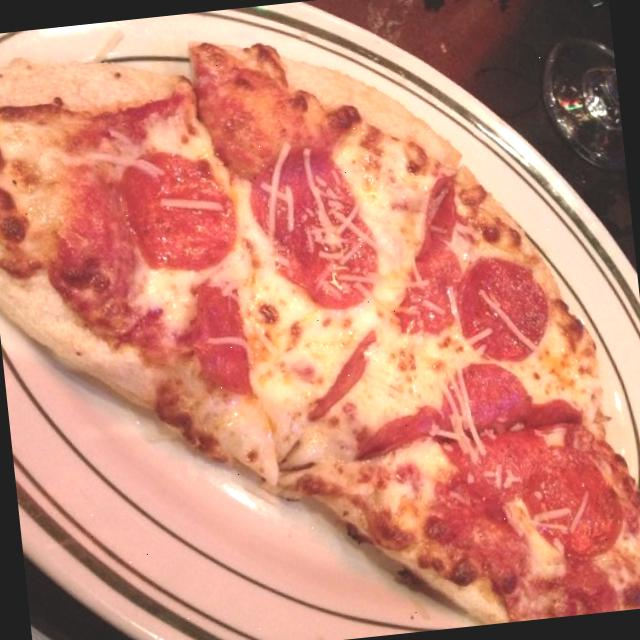pepperoni: (246, 122, 392, 316), (429, 333, 552, 499), (374, 144, 476, 336), (515, 421, 640, 566), (110, 134, 242, 268), (442, 239, 558, 378), (174, 280, 273, 398)
pizza: (0, 42, 640, 624)
